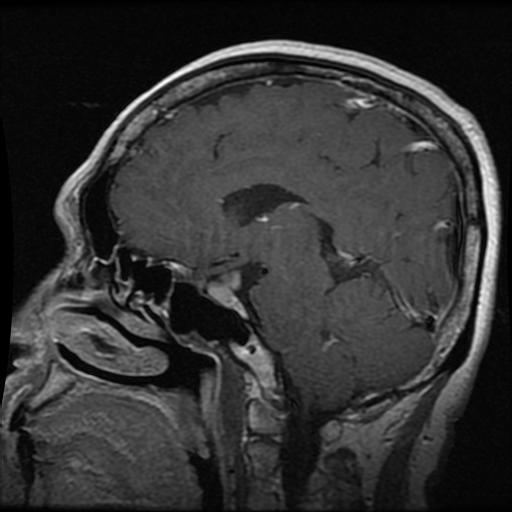Pituirity_tumour: (210, 269, 240, 304)
